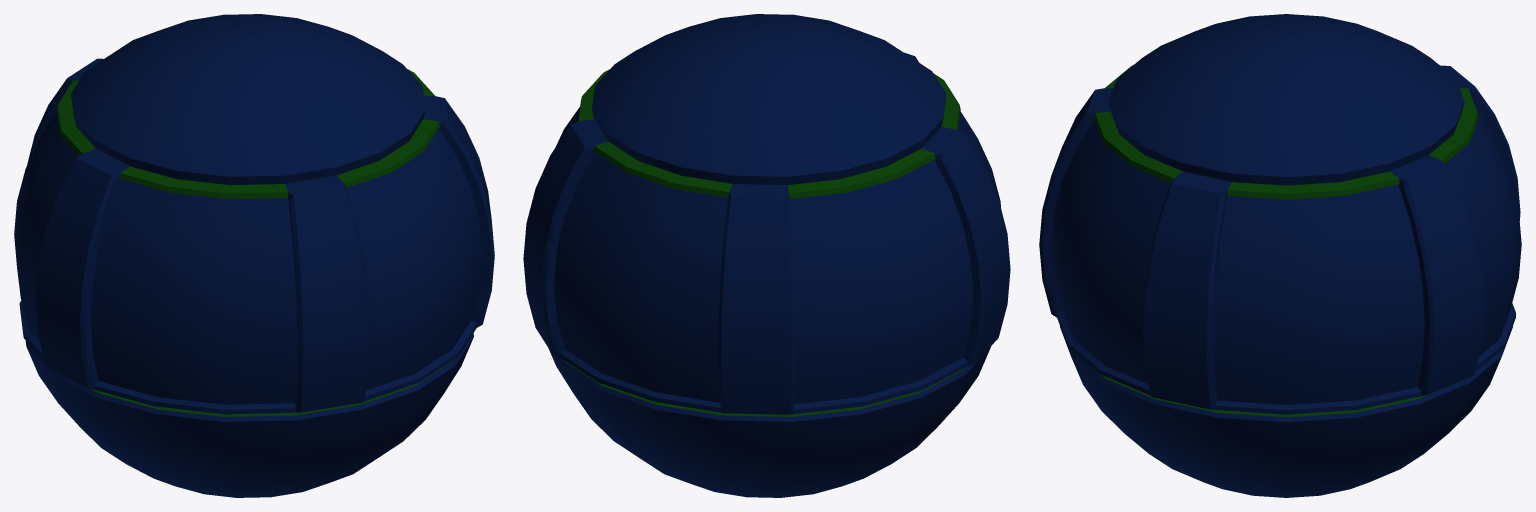
The model's file is EsferaMatJuntos.fbx.
3 renders of one model, left to right at view 1: azimuth 30°, elevation 25°; view 2: azimuth 150°, elevation 25°; view 3: azimuth 270°, elevation 25°, orthographic.
Visible parts, largest first — view 1: pSphere2 (×2); view 2: pSphere2 (×2); view 3: pSphere2 (×2).
Part boxes in pixels (x1,y1,x2,y2): pSphere2 (×2): (14,14,494,497); pSphere2 (×2): (523,14,1010,497); pSphere2 (×2): (1039,14,1521,497).
Size of the model in its own units: 1.95 by 1.95 by 1.95.
